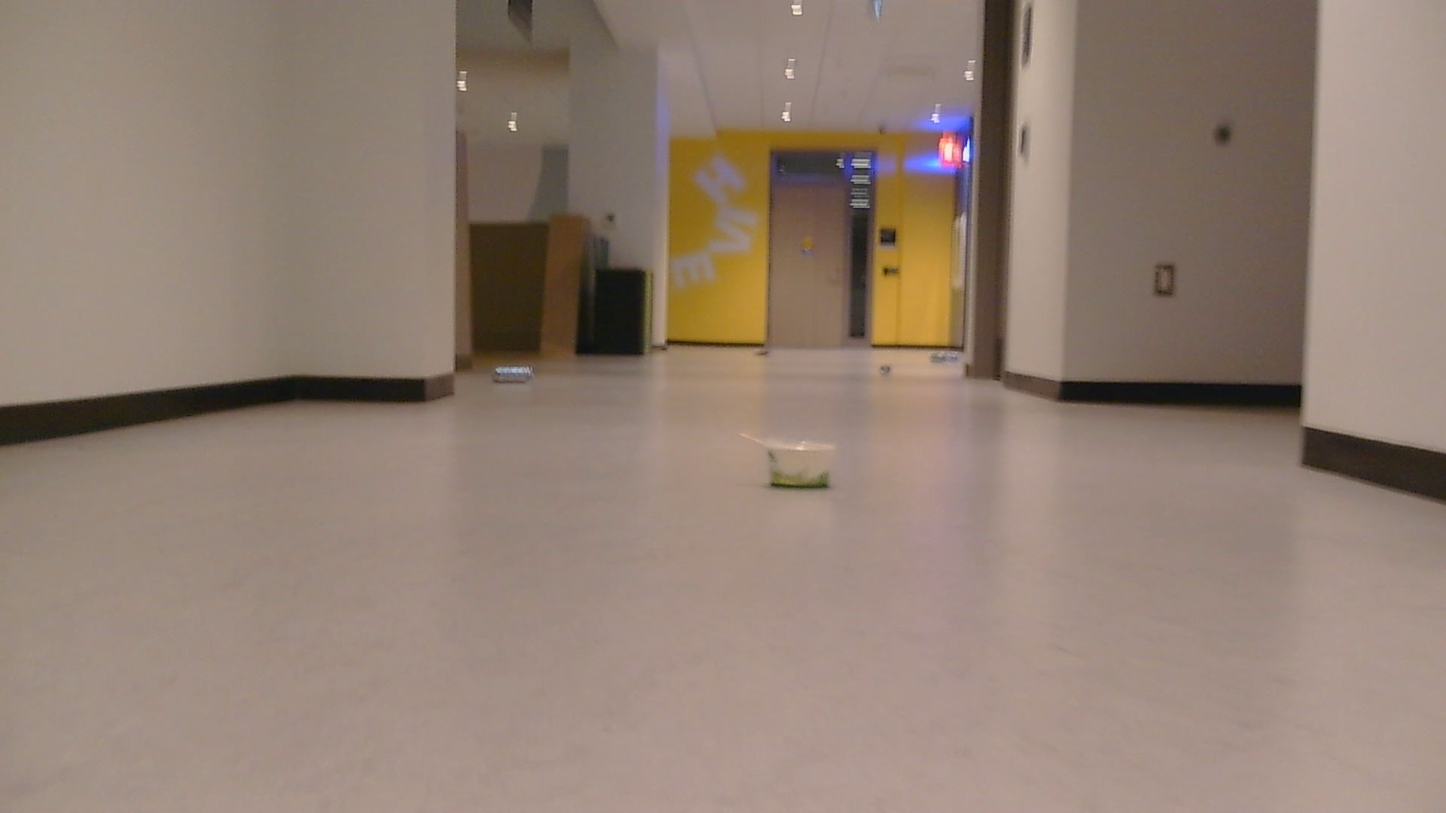carton: (752, 428, 843, 489), (493, 358, 550, 391), (929, 340, 976, 369), (878, 355, 901, 377), (752, 340, 778, 354)
